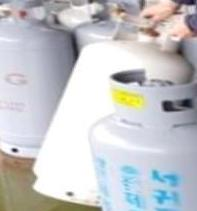cylinder: (0, 1, 197, 211)
